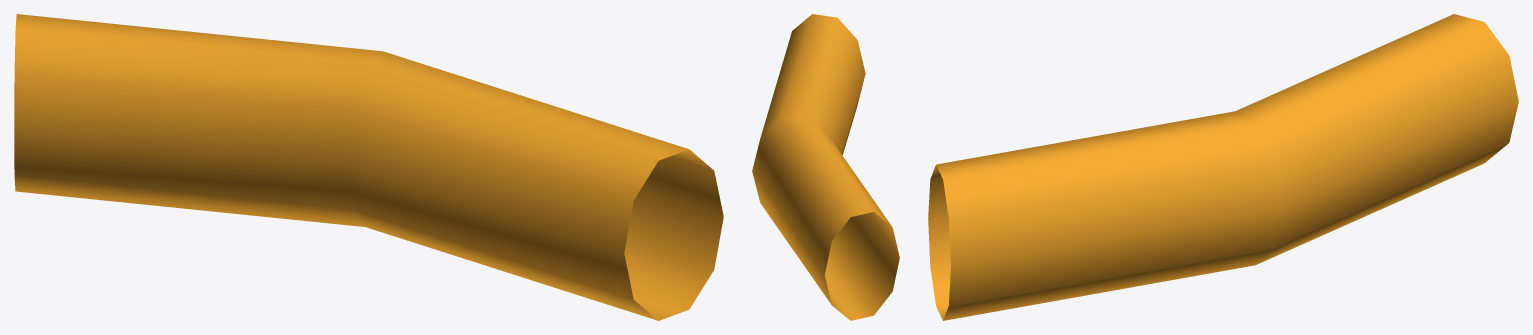
Rendered from TorusChunk_7_5.obj.
The picture shows the model from 3 angles, left to right: view 1: azimuth 30°, elevation 25°; view 2: azimuth 150°, elevation 25°; view 3: azimuth 270°, elevation 25°; orthographic projection. The views are drawn at different scales.
Parts seen in each view (by area): view 1: TorusChunk_7_5; view 2: TorusChunk_7_5; view 3: TorusChunk_7_5.
Part boxes in pixels (x1,y1,x2,y2): TorusChunk_7_5: [14, 14, 723, 320]; TorusChunk_7_5: [752, 14, 899, 320]; TorusChunk_7_5: [928, 14, 1518, 320].
Size of the model in its own units: 0.7828 by 0.27 by 1.02.
